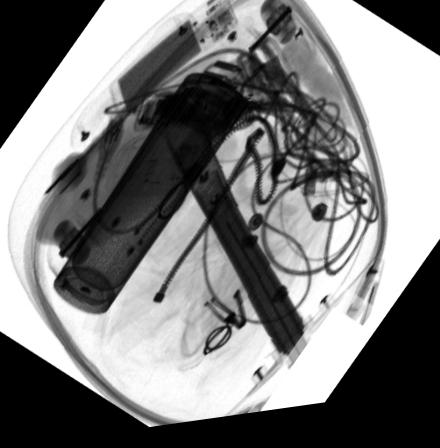Powerbank: (109, 0, 239, 123)
